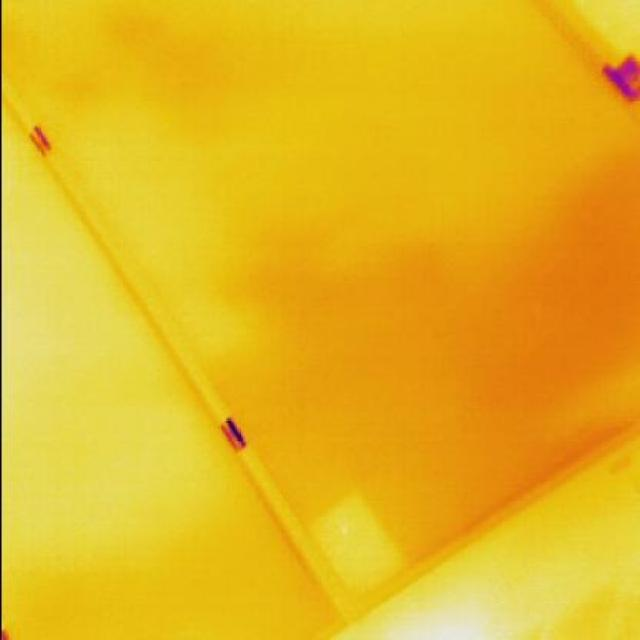hotspot: (309, 490, 408, 616)
